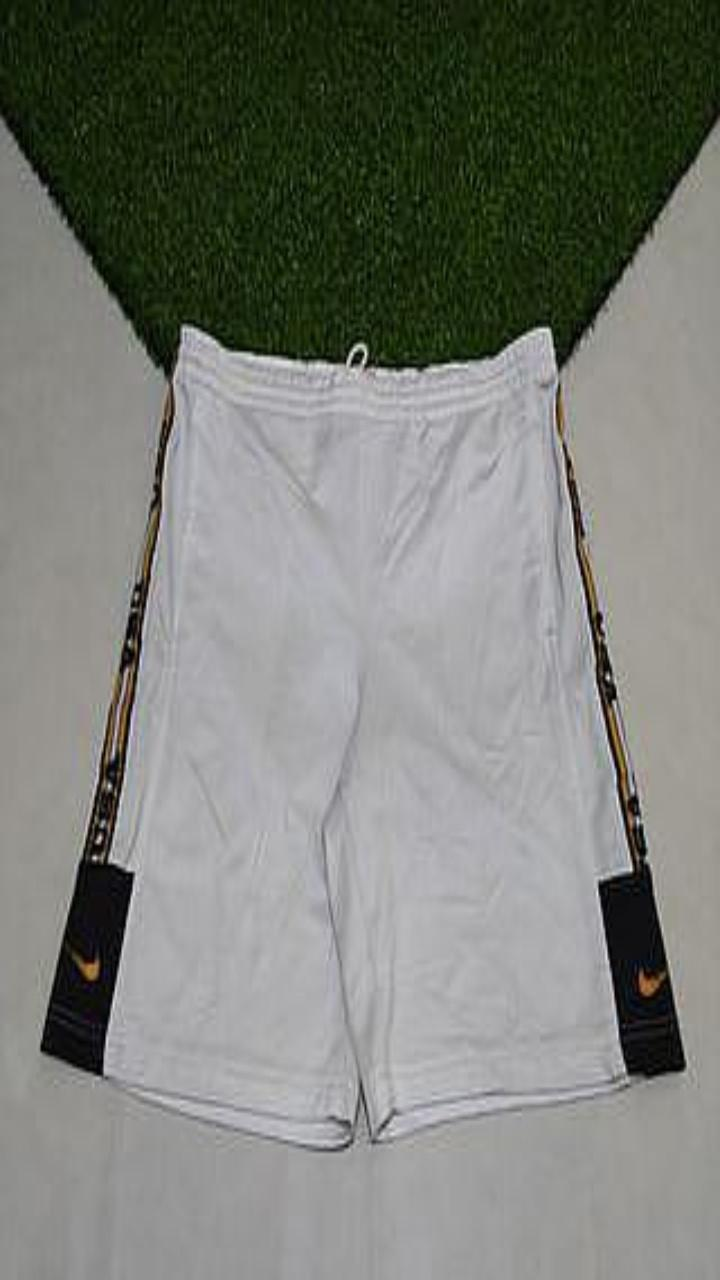Shorts: (42, 326, 683, 1147)
